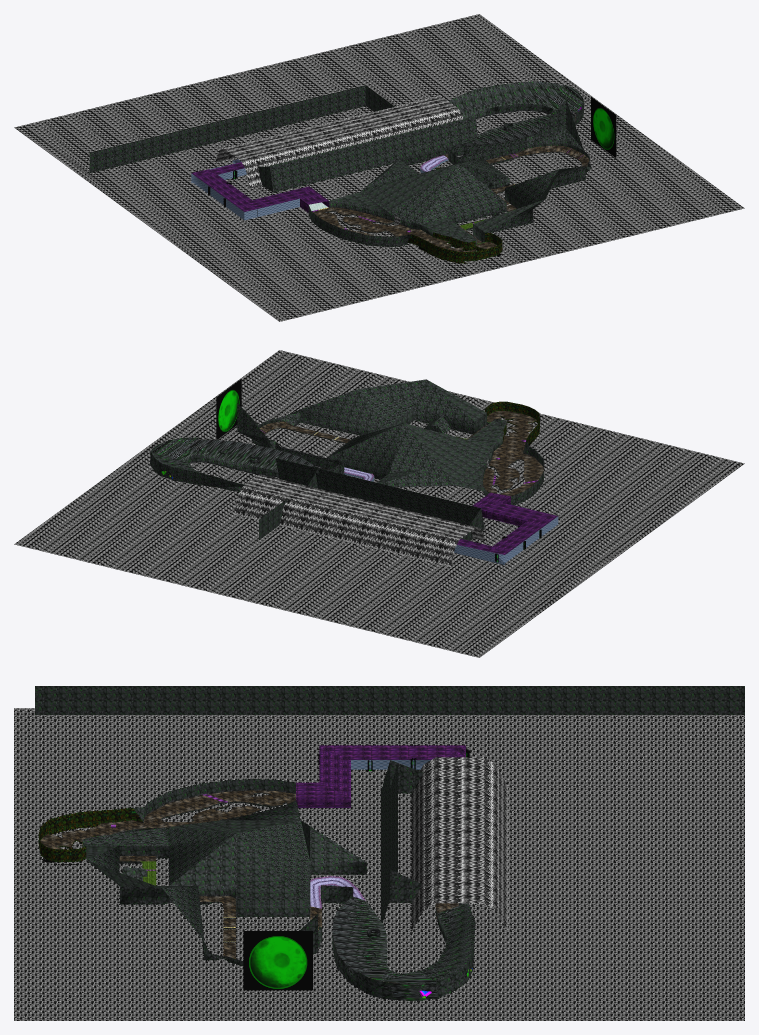
The picture shows the model from 3 angles, top to bottom: view 1: azimuth 30°, elevation 25°; view 2: azimuth 150°, elevation 25°; view 3: azimuth 270°, elevation 25°; orthographic projection. The views are drawn at different scales.
Parts seen in each view (by area): view 1: course_model-SKP--Acid, course_model-SKP--Wall, course_model-SKP--AcidFall, course_model-SKP--WallDark, course_model-SKP--RoadMain, course_model-SKP--WallPanel, course_model-SKP--ShortcutWall, course_model-SKP--WallSmooth, course_model-SKP--mat1; view 2: course_model-SKP--Acid, course_model-SKP--Wall, course_model-SKP--AcidFall, course_model-SKP--WallDark, course_model-SKP--RoadMain, course_model-SKP--WallPanel, course_model-SKP--mat1, course_model-SKP--WallSmooth, course_model-SKP--ShortcutWall; view 3: course_model-SKP--Acid, course_model-SKP--Wall, course_model-SKP--AcidFall, course_model-SKP--WallDark, course_model-SKP--RoadMain, course_model-SKP--WallPanel, course_model-SKP--mat1, course_model-SKP--ShortcutWall, course_model-SKP--SideRoad, course_model-SKP--WallSmooth.
Part boxes in pixels (bbox=[...]): course_model-SKP--Acid: bbox=[14, 14, 744, 321]; course_model-SKP--Wall: bbox=[89, 85, 591, 246]; course_model-SKP--AcidFall: bbox=[215, 95, 462, 224]; course_model-SKP--WallDark: bbox=[448, 81, 583, 155]; course_model-SKP--RoadMain: bbox=[313, 145, 589, 251]; course_model-SKP--WallPanel: bbox=[191, 162, 329, 212]; course_model-SKP--ShortcutWall: bbox=[407, 167, 502, 263]; course_model-SKP--WallSmooth: bbox=[191, 159, 448, 220]; course_model-SKP--mat1: bbox=[591, 97, 616, 157]; course_model-SKP--Acid: bbox=[14, 350, 744, 657]; course_model-SKP--Wall: bbox=[186, 379, 543, 540]; course_model-SKP--AcidFall: bbox=[233, 459, 489, 566]; course_model-SKP--WallDark: bbox=[150, 437, 315, 491]; course_model-SKP--RoadMain: bbox=[259, 411, 543, 496]; course_model-SKP--WallPanel: bbox=[457, 492, 557, 554]; course_model-SKP--mat1: bbox=[216, 379, 241, 439]; course_model-SKP--WallSmooth: bbox=[344, 473, 558, 564]; course_model-SKP--ShortcutWall: bbox=[484, 401, 539, 444]; course_model-SKP--Acid: bbox=[14, 708, 744, 1020]; course_model-SKP--Wall: bbox=[35, 686, 744, 973]; course_model-SKP--AcidFall: bbox=[411, 757, 507, 930]; course_model-SKP--WallDark: bbox=[332, 896, 475, 1001]; course_model-SKP--RoadMain: bbox=[40, 790, 458, 958]; course_model-SKP--WallPanel: bbox=[296, 745, 465, 807]; course_model-SKP--mat1: bbox=[243, 931, 312, 990]; course_model-SKP--ShortcutWall: bbox=[38, 807, 143, 862]; course_model-SKP--SideRoad: bbox=[310, 876, 365, 908]; course_model-SKP--WallSmooth: bbox=[320, 760, 430, 889].
Bounding box in the file's own units: 199479 × 19403 × 197135.
22 materials, 22 textured.
